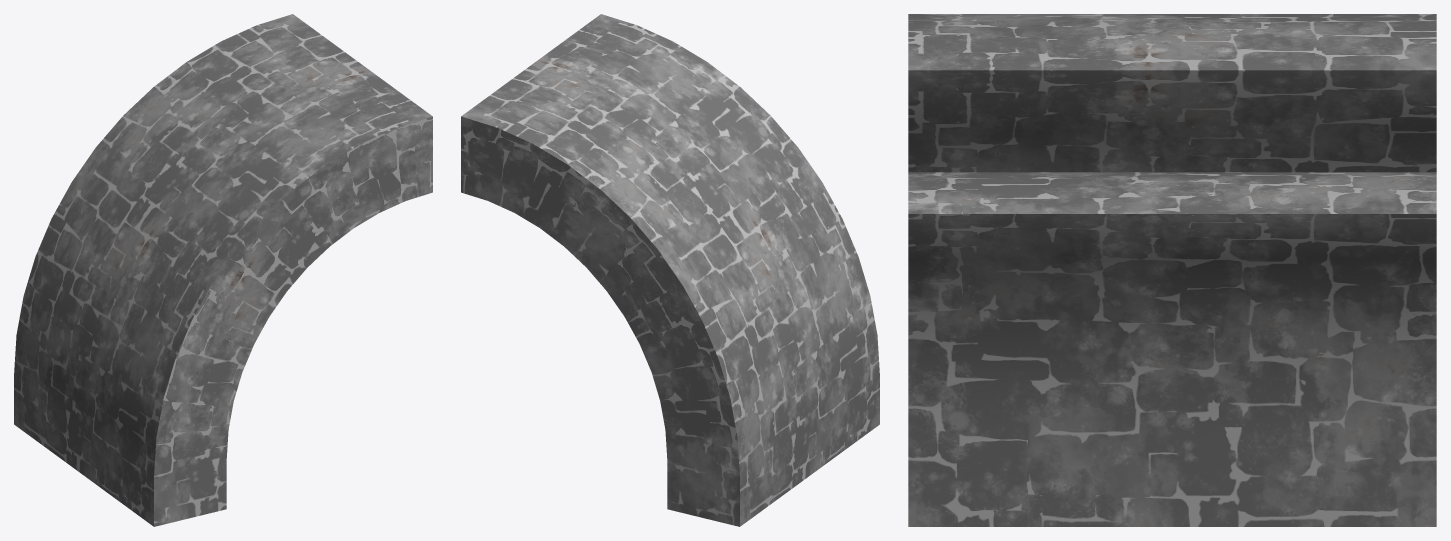
The model's file is Half_Roof_01.fbx.
3 views of the same model, side by side, from view 1: azimuth 30°, elevation 25°; view 2: azimuth 150°, elevation 25°; view 3: azimuth 270°, elevation 25° (orthographic). The views are drawn at different scales.
Visible parts, largest first — view 1: Half_Roof_02.002; view 2: Half_Roof_02.002; view 3: Half_Roof_02.002.
Boxes of the visible parts, x1,y1,x2,y2 form: Half_Roof_02.002: (14, 14, 432, 526); Half_Roof_02.002: (461, 14, 879, 526); Half_Roof_02.002: (908, 14, 1436, 526).
Bounding box in the file's own units: 5.75 × 6.75 × 5.
